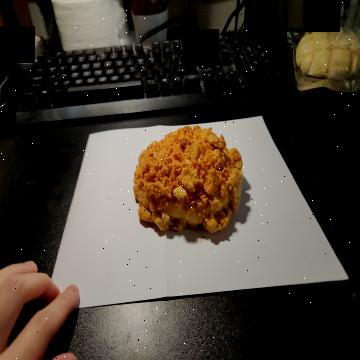soboru_bread: (132, 122, 241, 236)
